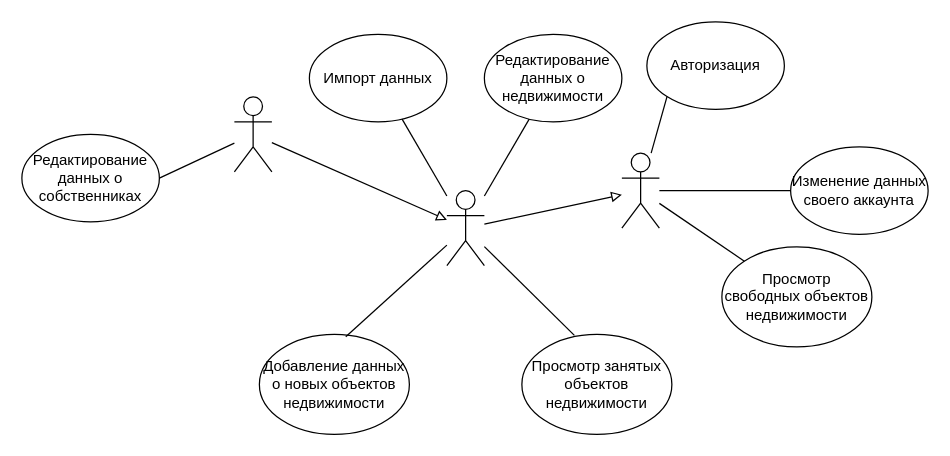
This 950x456 diagram has some shape labels left out. The box of each missing label's shape, as (x1, y1, x2, y2) in pixels:
Администратор: (233, 96, 272, 172)
Модератор: (446, 189, 484, 266)
Пользователь: (621, 152, 659, 228)
